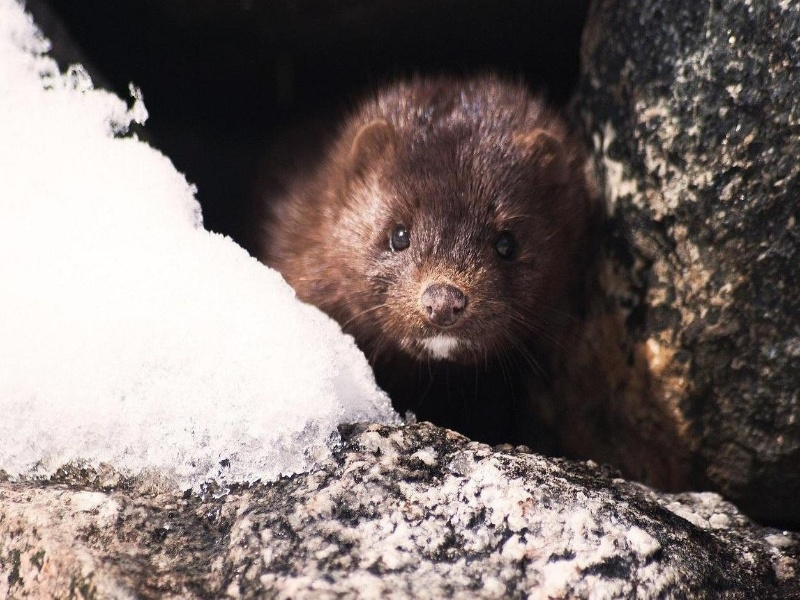minkish: (231, 75, 597, 434)
